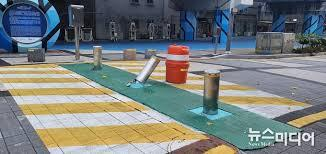Animal: (203, 66, 223, 111), (82, 44, 104, 81), (119, 43, 141, 65), (25, 46, 45, 64)
